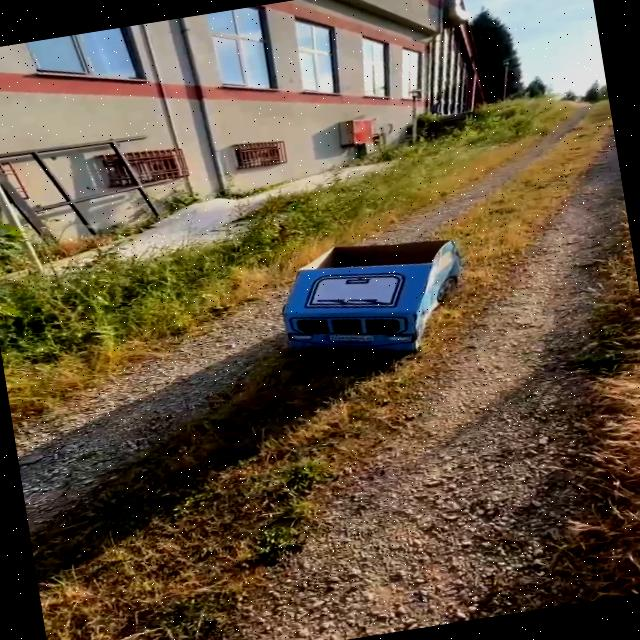blue_car: (230, 193, 524, 410)
